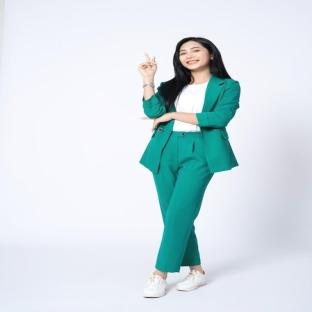Human: (139, 37, 240, 297)
